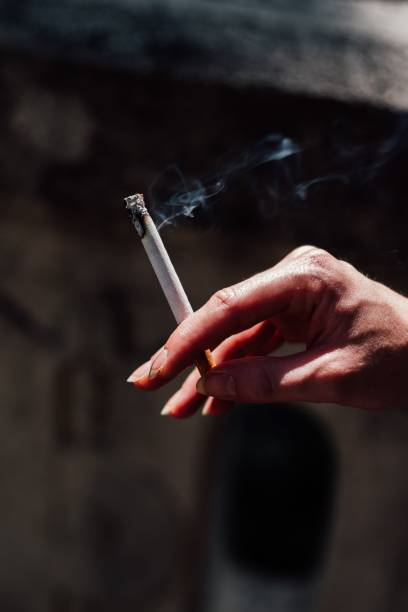cigarette: (120, 191, 223, 382)
